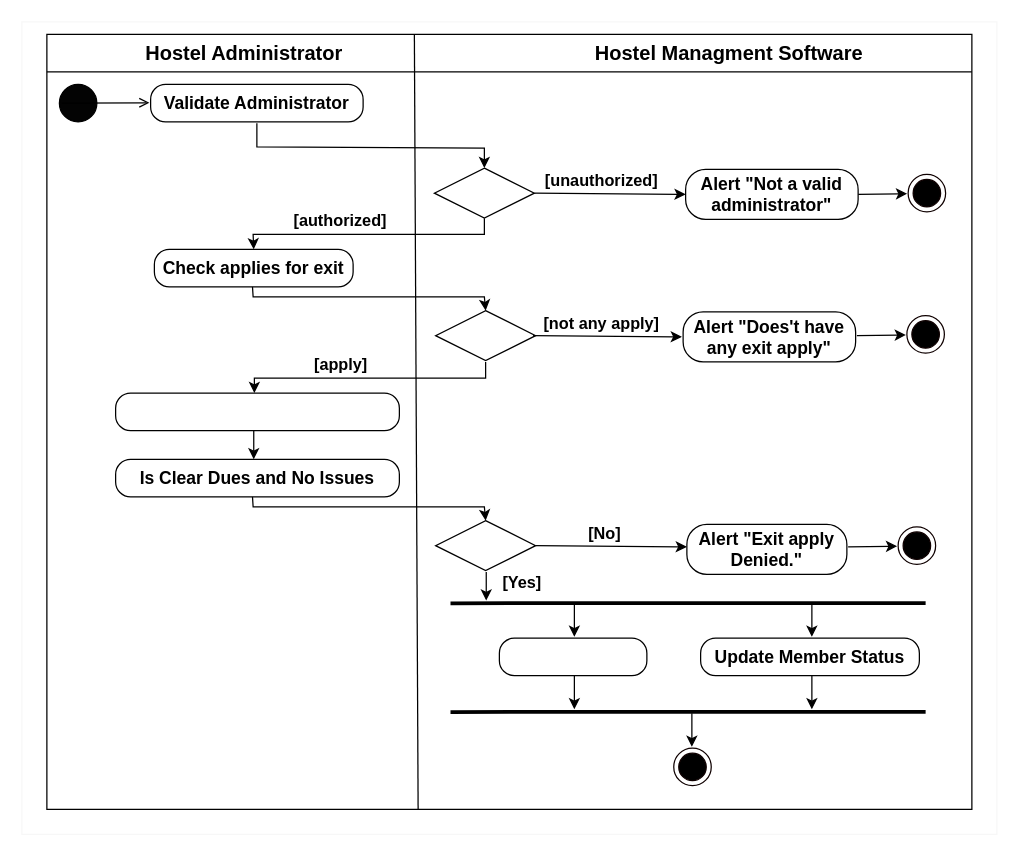
Some shapes in this 1019 by 856 pixel diagram are drawn without their labels. Each missing label, with the box of its shape:
Approve Exit: (498, 637, 647, 676)
Conduct a final room inspection: (114, 392, 399, 431)
